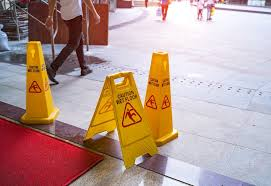wet caution sign: (80, 72, 155, 168), (14, 39, 65, 128), (144, 46, 184, 144)
